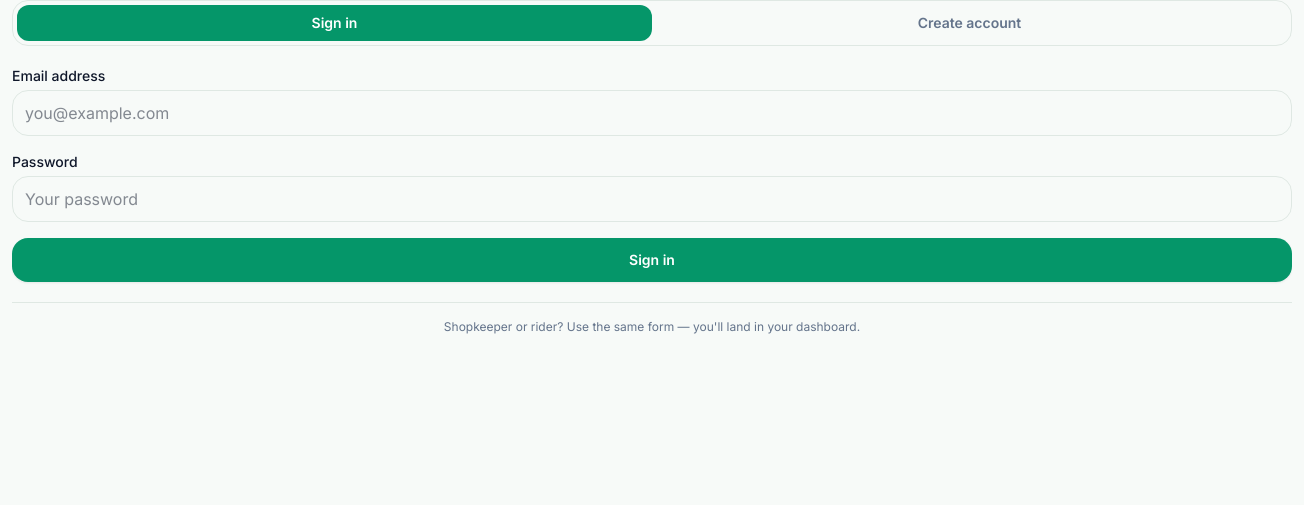
Test: LoginFlow — sign up › offers sign-in when the email is already registered
Click the tab "Create account" at (970, 23), box [652,5,1287,41]
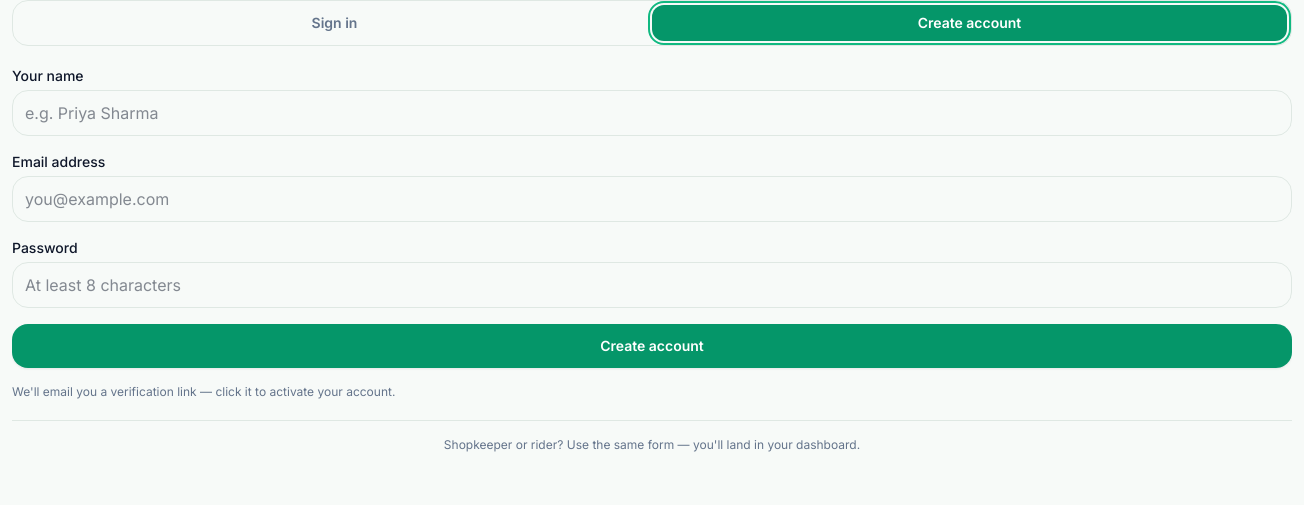
Type "Priya Sharma" into the field labelled "Your name" at (652, 113), box [12,90,1292,136]
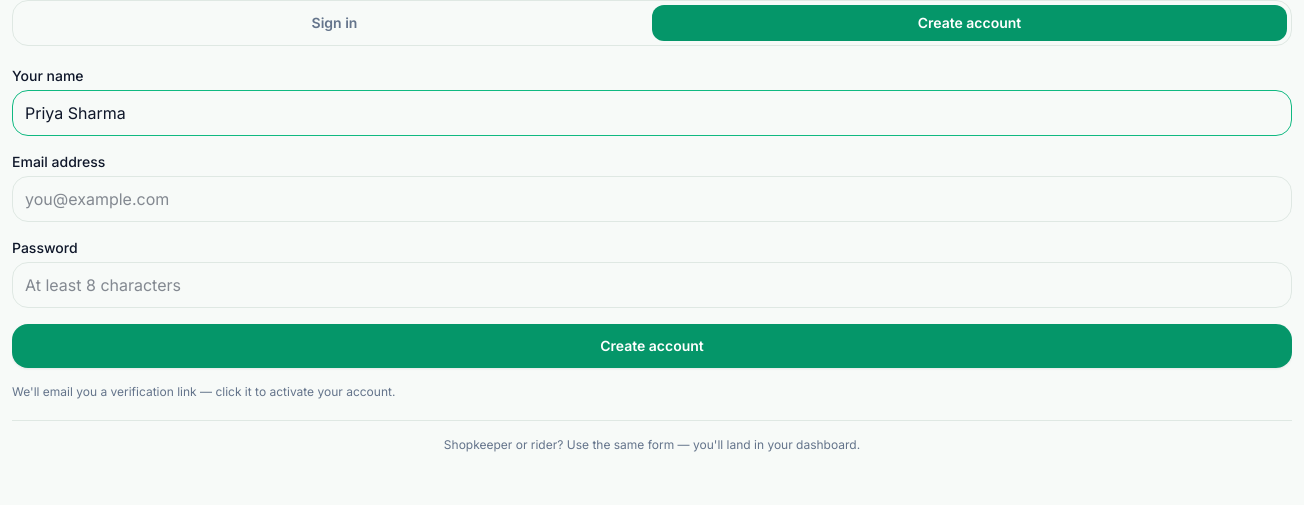
Type "new@example.com" into the field labelled "Email address" at (652, 199), box [12,176,1292,222]
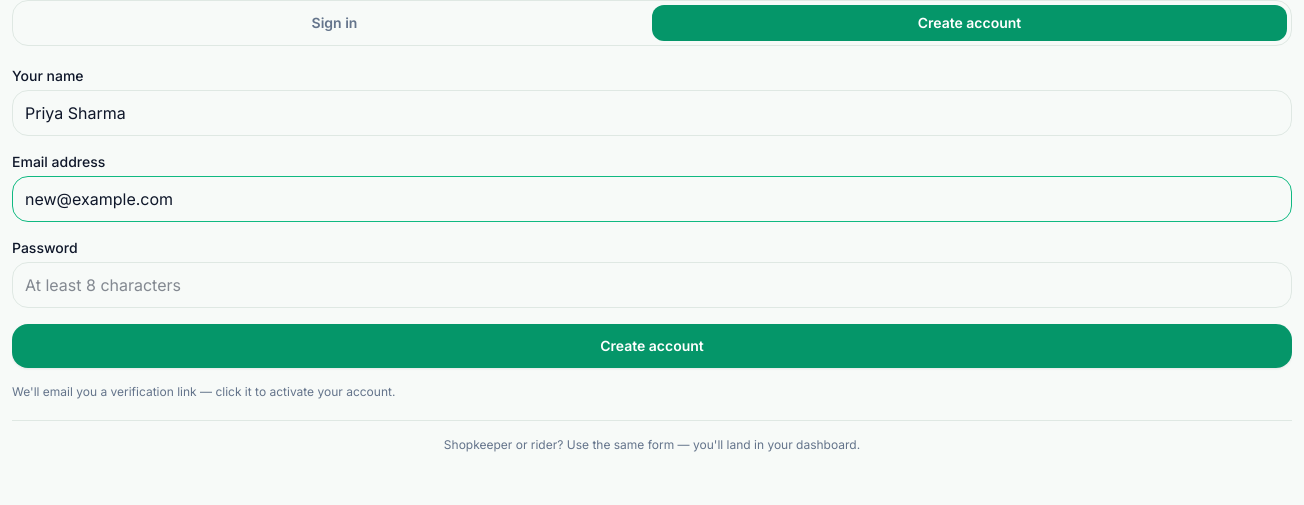
Type "password123" into the password field labelled "Password" at (652, 285), box [12,262,1292,308]
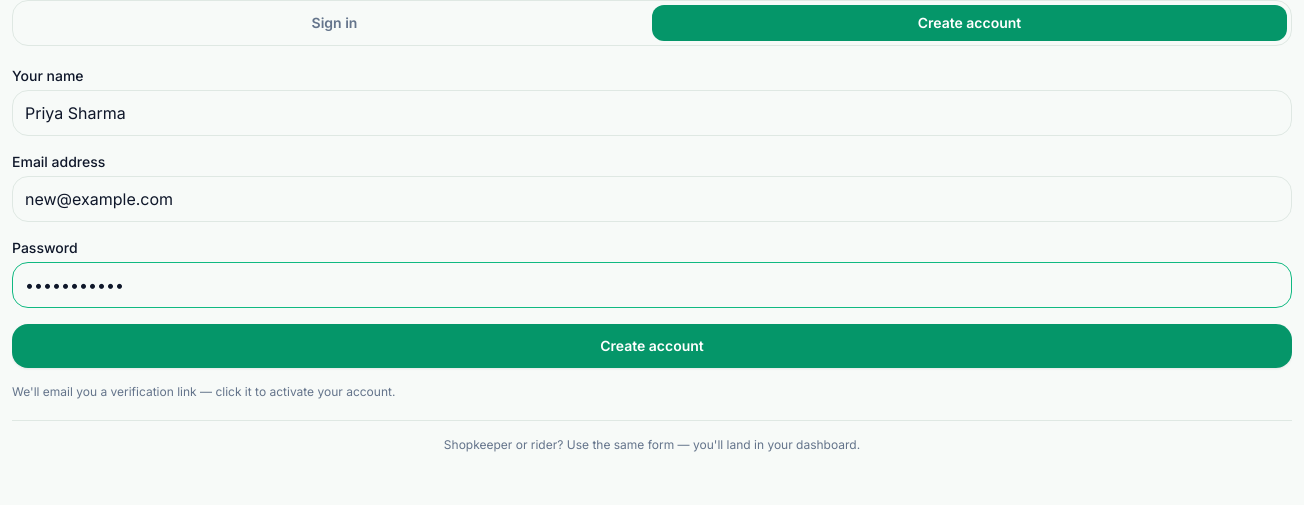
Click the button "Create account" at (652, 346), box [12,324,1292,368]
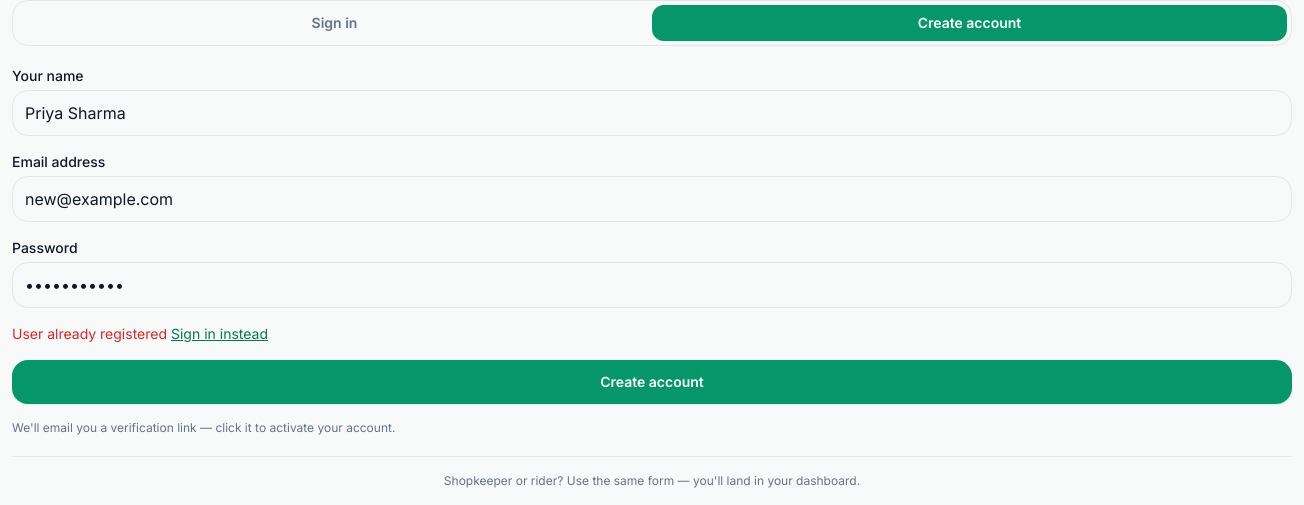
Now the message shows "already registered", box [12,325,167,342]
Now the button "Sign in instead" is shown, box [171,324,268,344]
